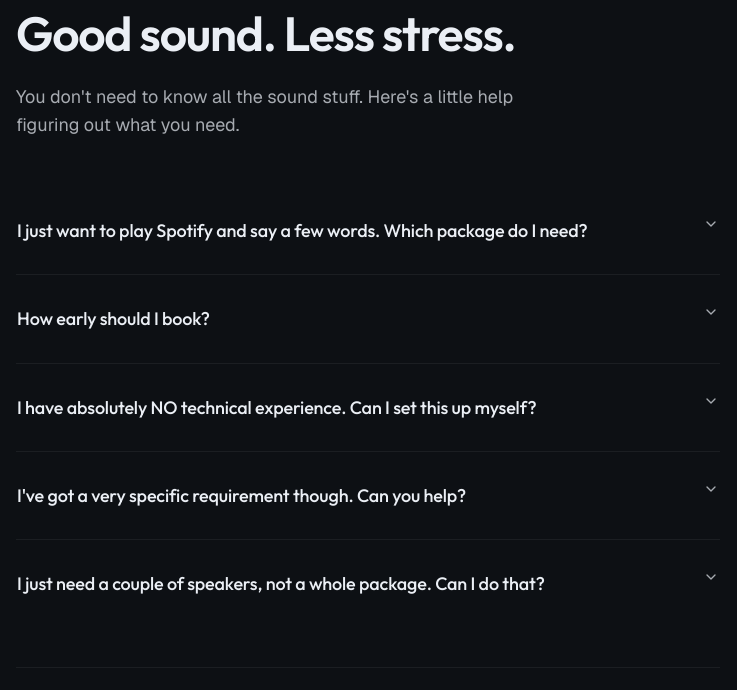
Test: static site pages › FAQ answers can be opened and closed and retain the owner's specific-requirement copy
Click the button "I've got a very specific requirement though. Can you help?" at (368, 495), box [16, 452, 720, 539]
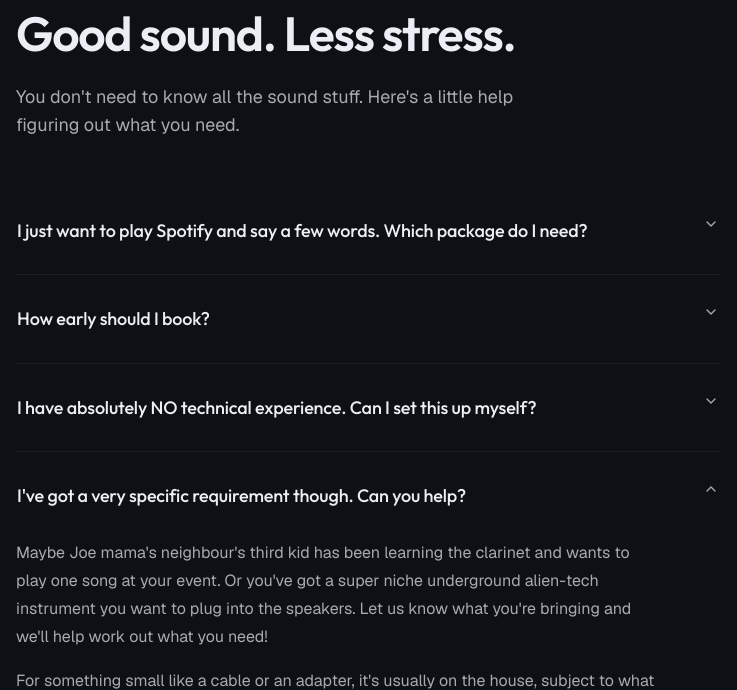
Now the button "I've got a very specific requirement though. Can you help?" is expanded
Now the text "Joe mama's neighbour's third kid" is shown, box [16, 542, 631, 647]
Click the button "I've got a very specific requirement though. Can you help?" at (368, 495), box [16, 452, 720, 539]
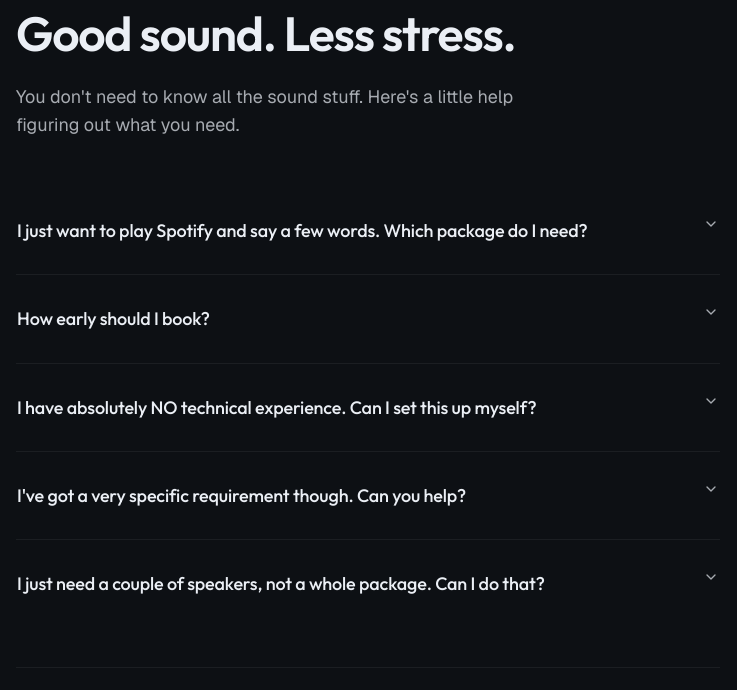
Now the button "I've got a very specific requirement though. Can you help?" is collapsed, box [16, 452, 720, 539]
